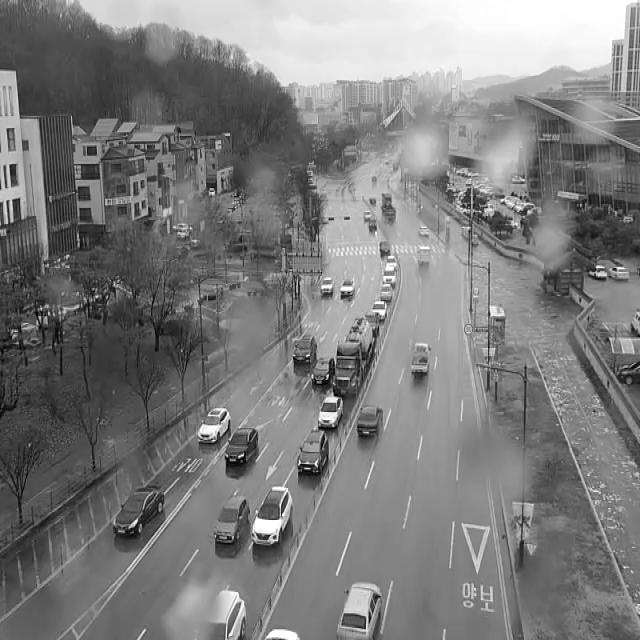Car: (337, 582, 385, 640), (113, 485, 164, 535), (196, 590, 246, 640), (252, 486, 292, 545), (214, 496, 248, 544), (297, 430, 328, 472), (198, 408, 231, 443), (225, 428, 258, 462), (357, 406, 383, 435), (318, 397, 343, 427), (293, 335, 316, 364), (312, 358, 334, 385), (618, 360, 640, 386), (264, 629, 300, 640), (364, 311, 379, 334), (371, 300, 387, 320), (608, 267, 629, 281), (588, 266, 607, 280), (340, 279, 355, 296), (383, 266, 395, 286), (320, 277, 334, 294), (380, 284, 392, 302), (386, 256, 397, 270), (177, 226, 189, 238), (380, 242, 390, 256), (419, 226, 429, 236), (369, 219, 377, 229), (364, 211, 371, 220), (209, 187, 215, 197), (637, 265, 640, 276)
Truck: (333, 317, 375, 395), (411, 343, 432, 372), (382, 193, 396, 224), (417, 246, 430, 268), (630, 309, 640, 336)
